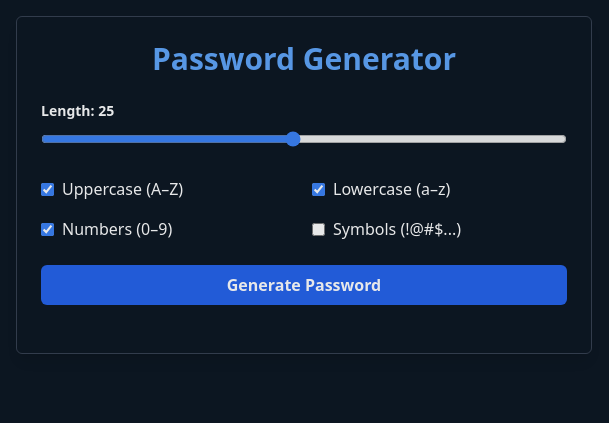
Test: PasswordGenerator component › generates a password with only numbers
submit input
What coordinates should you click on to do the following:
click the checkbox labelled "Uppercase (A–Z)"
I would click on:
 (48, 189)
Its box is [41,182,54,196].
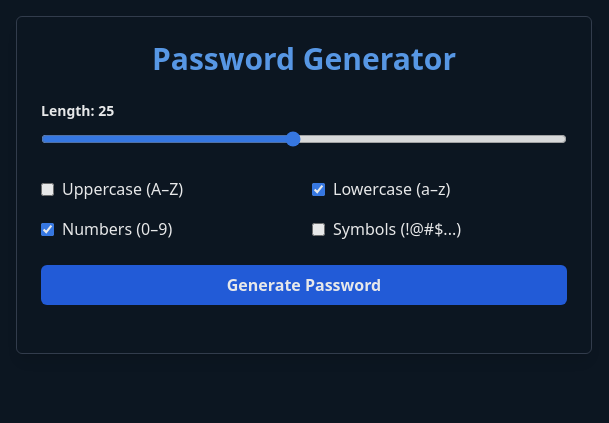
What coordinates should you click on to do the following:
click the checkbox labelled "Lowercase (a–z)"
I would click on:
 (318, 189)
Its box is [312,182,325,196].
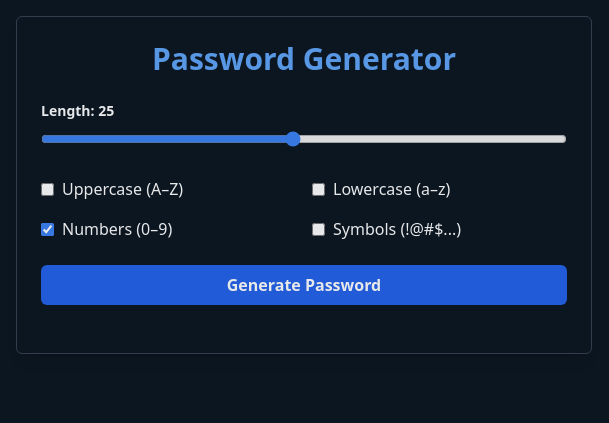
What coordinates should you click on to do the following:
click the button "Generate Password"
I would click on:
 (304, 285)
Its box is [41,265,567,305].
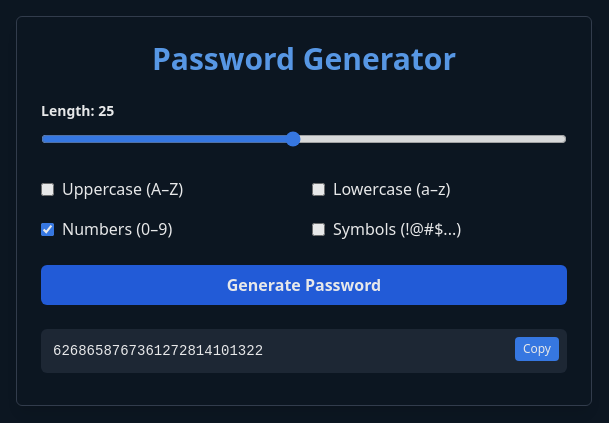
Now the text "6268658767361272814101322" is shown, box [41,329,567,373]
